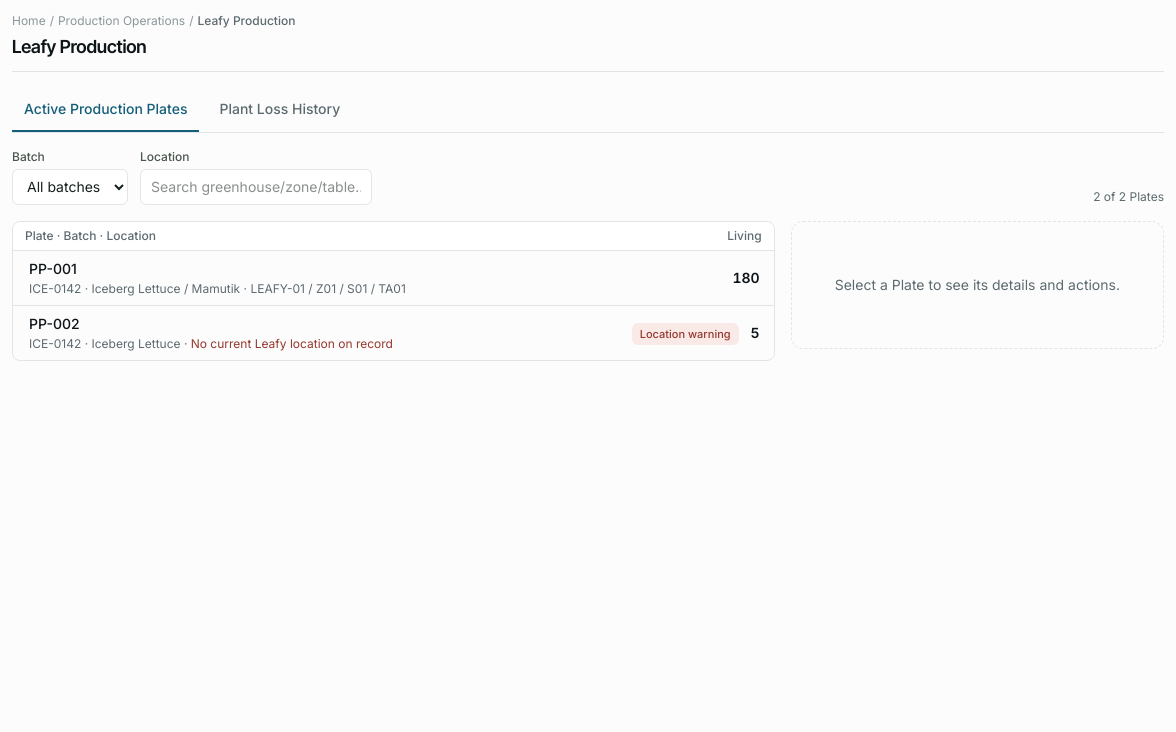
Test case: LeafyProductionPage › UX-OPS-001C: shows an empty inspector until a Plate is selected, then only server-valid actions
Expected: the text "PP-002" is shown, [29,314,80,334]
Expected: the text "Select a Plate to see its details and actions." is shown, [791,220,1164,348]
Click the button "PP-002" at (324, 332), box [29,314,620,352]
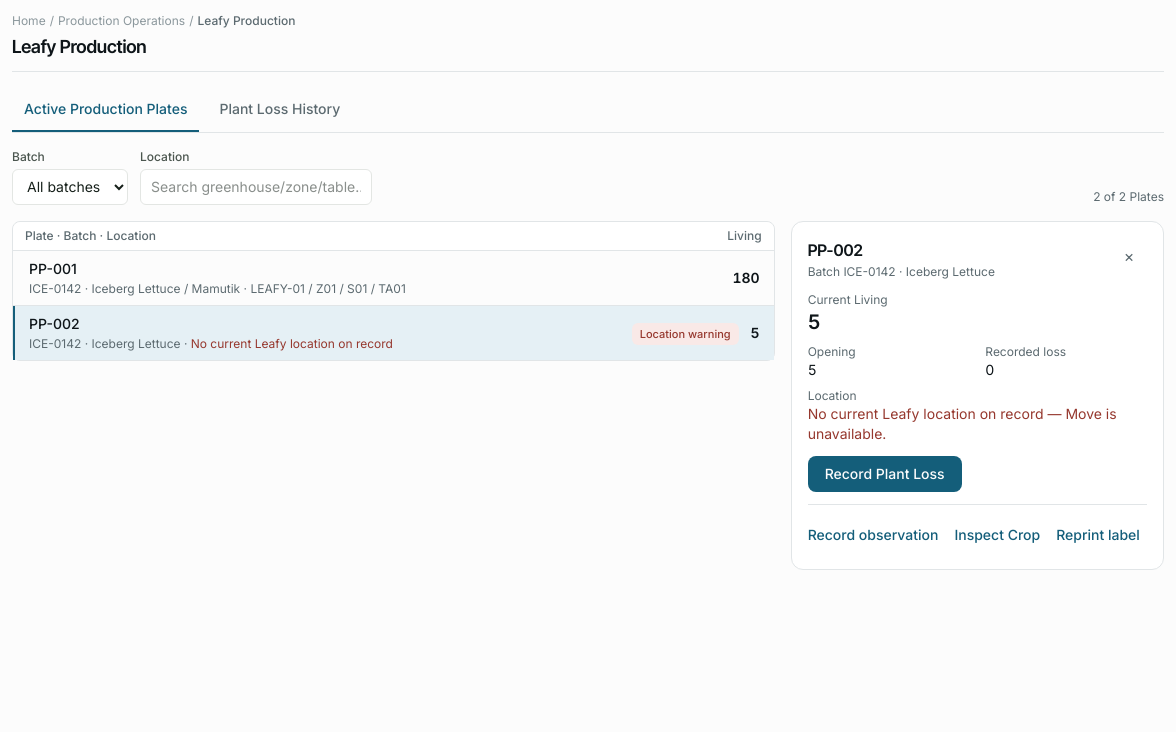
Now the button "Record Plant Loss" is shown, box [808,456,962,492]
